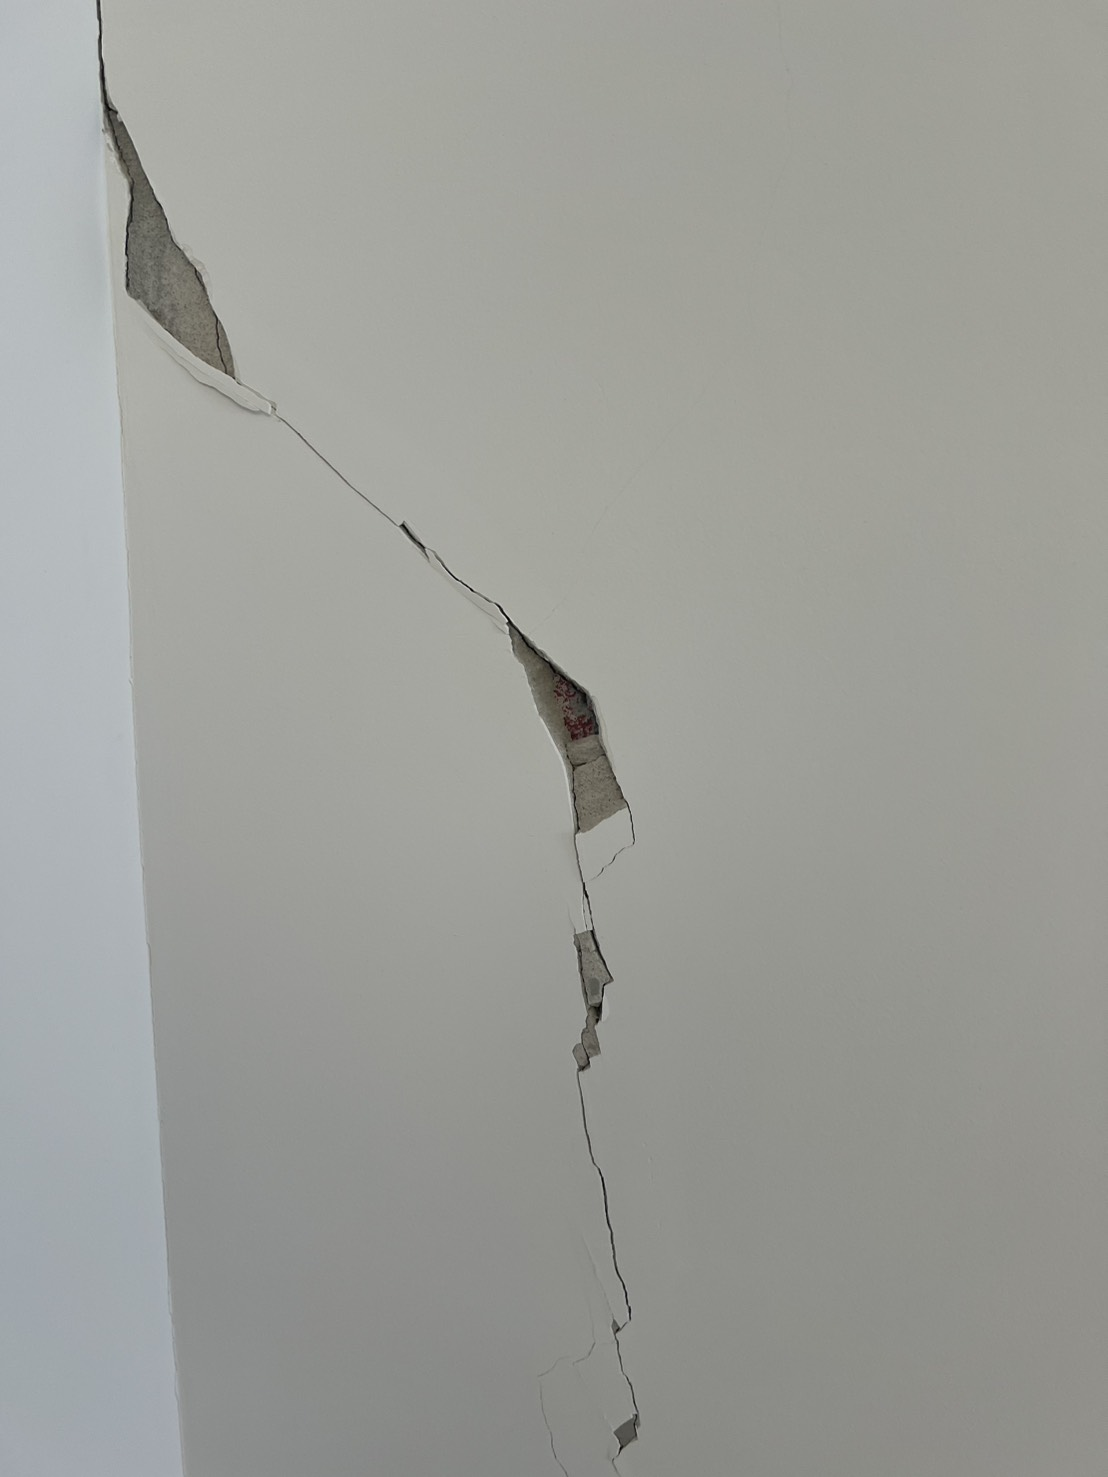Low: (81, 1, 662, 1476)
